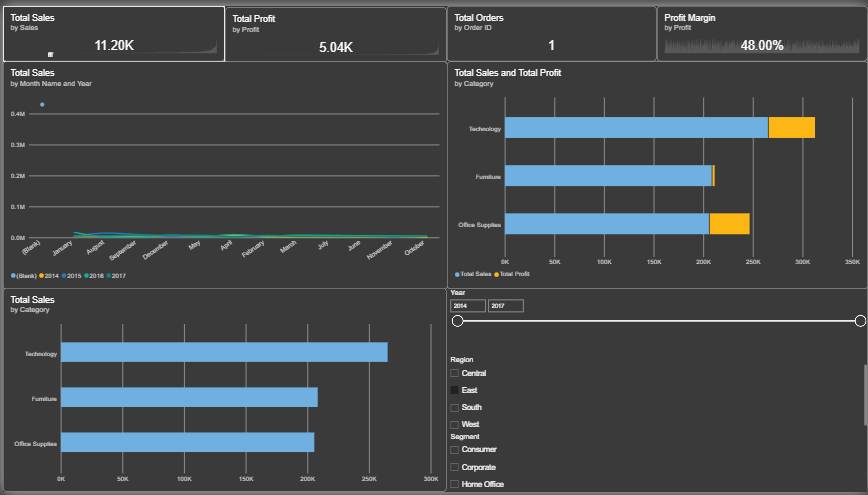

Layout of this report page (visuals, bound fields, positions):
{"tool":"powerbi","page":{"name":"Page 1","canvas":[1920,1080],"ordinal":0},"visuals":[{"type":"kpi","fields":{"Indicator":["Orders.Total Sales"],"TrendLine":["Orders.Sales"]},"box":[0,0,492.5,122.5],"z":0},{"type":"kpi","fields":{"Indicator":["Orders.Total Profit"],"TrendLine":["Orders.Profit"]},"box":[492.5,2.5,492.5,122.5],"z":1000},{"type":"kpi","fields":{"Indicator":["Orders.Total Orders"],"TrendLine":["Orders.Order ID"]},"box":[987.5,0,465,122.5],"z":2000},{"type":"kpi","fields":{"Indicator":["Orders.Profit Margin"],"TrendLine":["Orders.Profit"]},"box":[1452.5,0,467.5,122.5],"z":3000},{"type":"lineChart","fields":{"Category":["DateTable.Month Name"],"Series":["Orders.Year"],"Y":["Orders.Total Sales"]},"box":[0,122.5,987.5,507.5],"z":4000},{"type":"barChart","fields":{"Category":["Orders.Category"],"Y":["Orders.Total Sales","Orders.Total Profit"]},"box":[985,122.5,935,505],"z":5000},{"type":"barChart","fields":{"Category":["Orders.Category"],"Y":["Orders.Total Sales"]},"box":[0,627.5,985,452.5],"z":6000},{"type":"slicer","fields":{"Values":["Orders.Year"]},"box":[985,627.5,935,140],"z":7000},{"type":"slicer","fields":{"Values":["Orders.Region"]},"box":[985,777.5,935,167.5],"z":8000},{"type":"slicer","fields":{"Values":["Orders.Segment"]},"box":[985,945,935,135],"z":9000},{"type":"textbox","box":[100,100,300,300],"z":10000},{"type":"textbox","box":[100,100,300,300],"z":11000},{"type":"textbox","box":[100,100,516.7,300],"z":12000}]}

Visuals, with their boxes in screenshot pixels (x1, y1, x2, y2), scaled from the page's 1920x1080 canvas onto the 868x495 screenshot:
kpi - Orders.Total Sales x Orders.Sales: {"x1": 0, "y1": 0, "x2": 223, "y2": 56}
kpi - Orders.Total Profit x Orders.Profit: {"x1": 223, "y1": 1, "x2": 445, "y2": 57}
kpi - Orders.Total Orders x Orders.Order ID: {"x1": 446, "y1": 0, "x2": 657, "y2": 56}
kpi - Orders.Profit Margin x Orders.Profit: {"x1": 657, "y1": 0, "x2": 867, "y2": 56}
lineChart - DateTable.Month Name x Orders.Year: {"x1": 0, "y1": 56, "x2": 446, "y2": 289}
barChart - Orders.Category x Orders.Total Sales: {"x1": 445, "y1": 56, "x2": 867, "y2": 288}
barChart - Orders.Category x Orders.Total Sales: {"x1": 0, "y1": 288, "x2": 445, "y2": 494}
slicer - Orders.Year: {"x1": 445, "y1": 288, "x2": 867, "y2": 352}
slicer - Orders.Region: {"x1": 445, "y1": 356, "x2": 867, "y2": 433}
slicer - Orders.Segment: {"x1": 445, "y1": 433, "x2": 867, "y2": 494}
textbox: {"x1": 45, "y1": 46, "x2": 181, "y2": 183}
textbox: {"x1": 45, "y1": 46, "x2": 181, "y2": 183}
textbox: {"x1": 45, "y1": 46, "x2": 279, "y2": 183}
